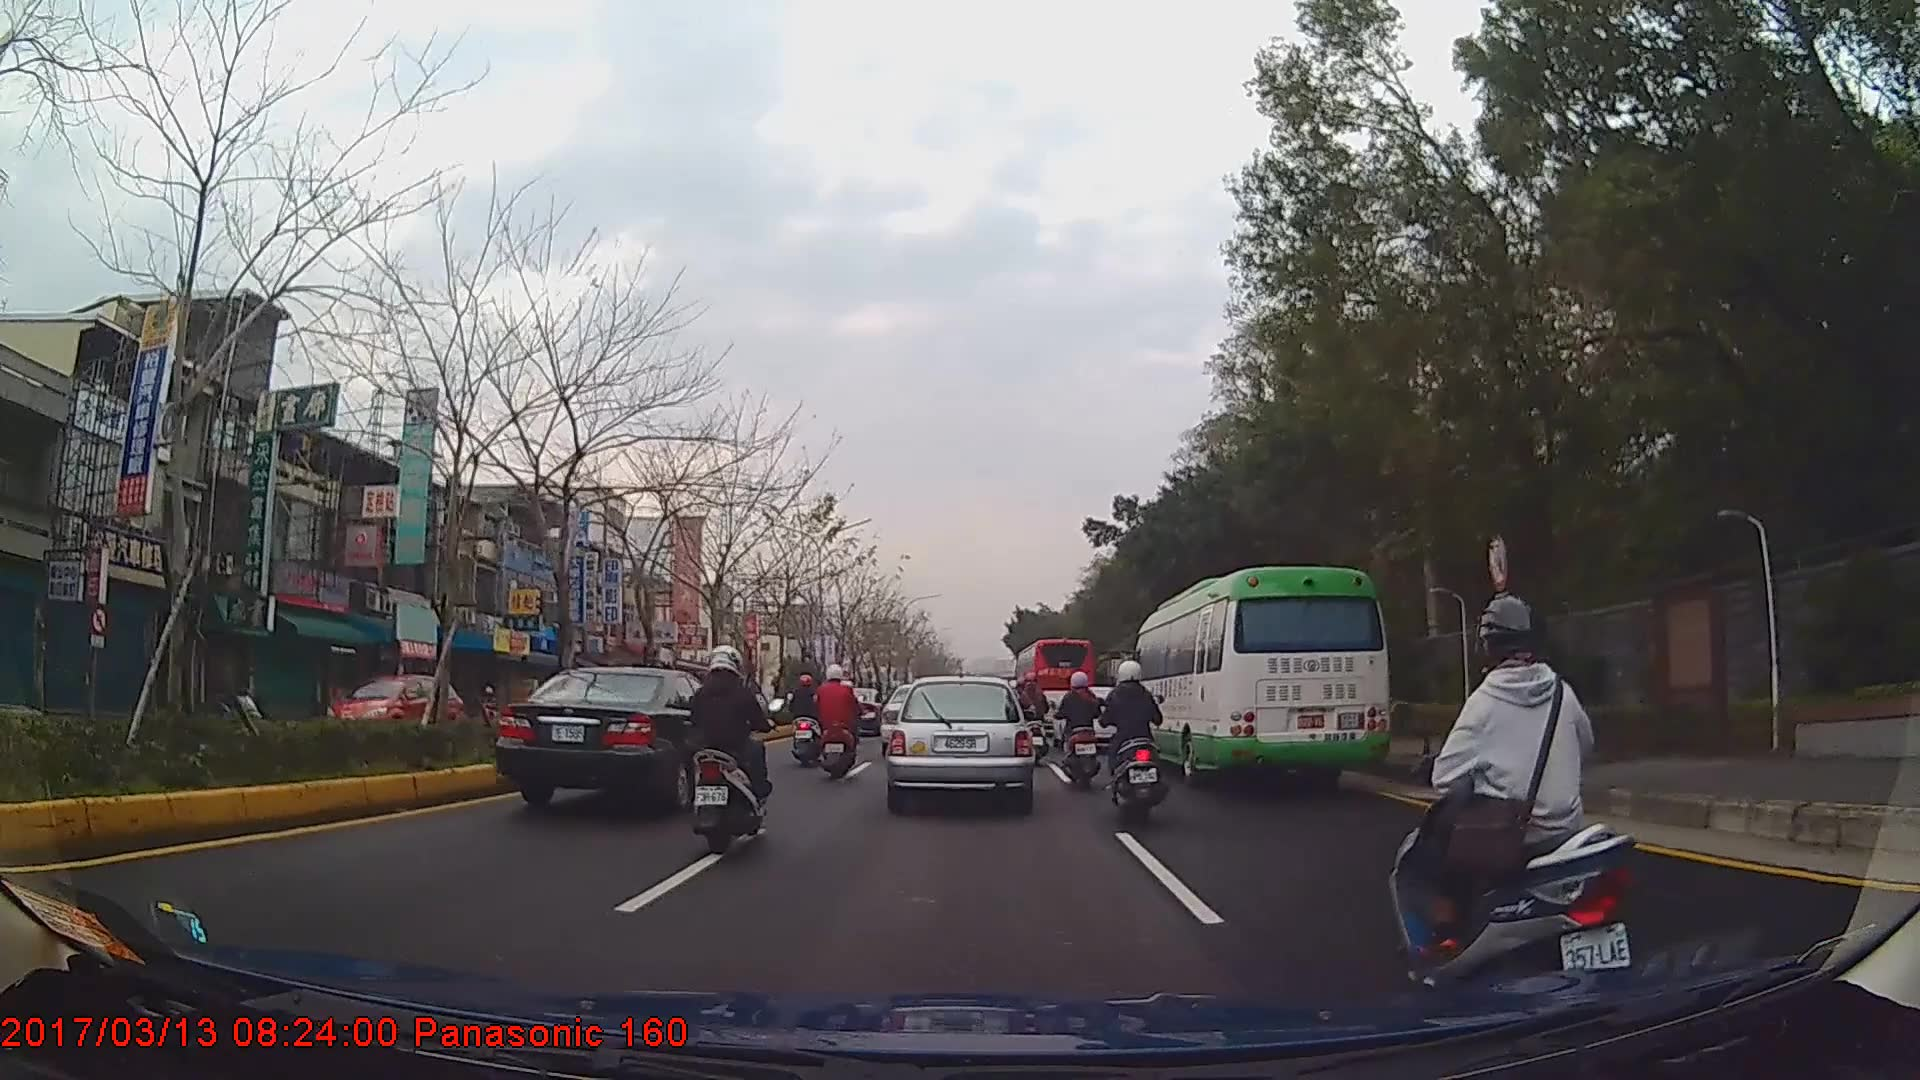rider: (1391, 592, 1638, 991), (683, 643, 784, 856), (1100, 659, 1174, 826), (1054, 670, 1105, 792), (815, 664, 860, 780), (789, 675, 827, 769), (1012, 670, 1047, 765), (479, 688, 503, 731)
vehicle: (1125, 566, 1391, 796), (494, 664, 748, 817), (882, 672, 1034, 811), (314, 673, 461, 751), (1013, 630, 1098, 726)
